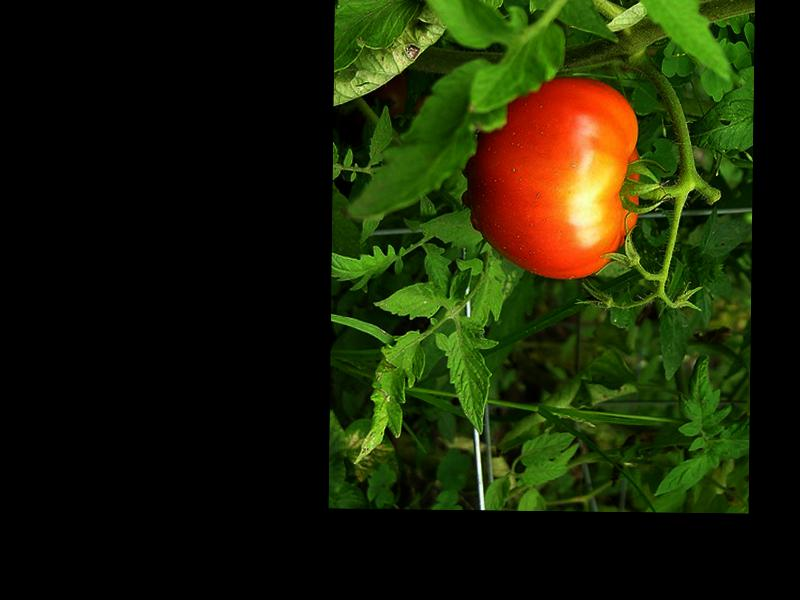Tomato: (469, 77, 642, 278)
